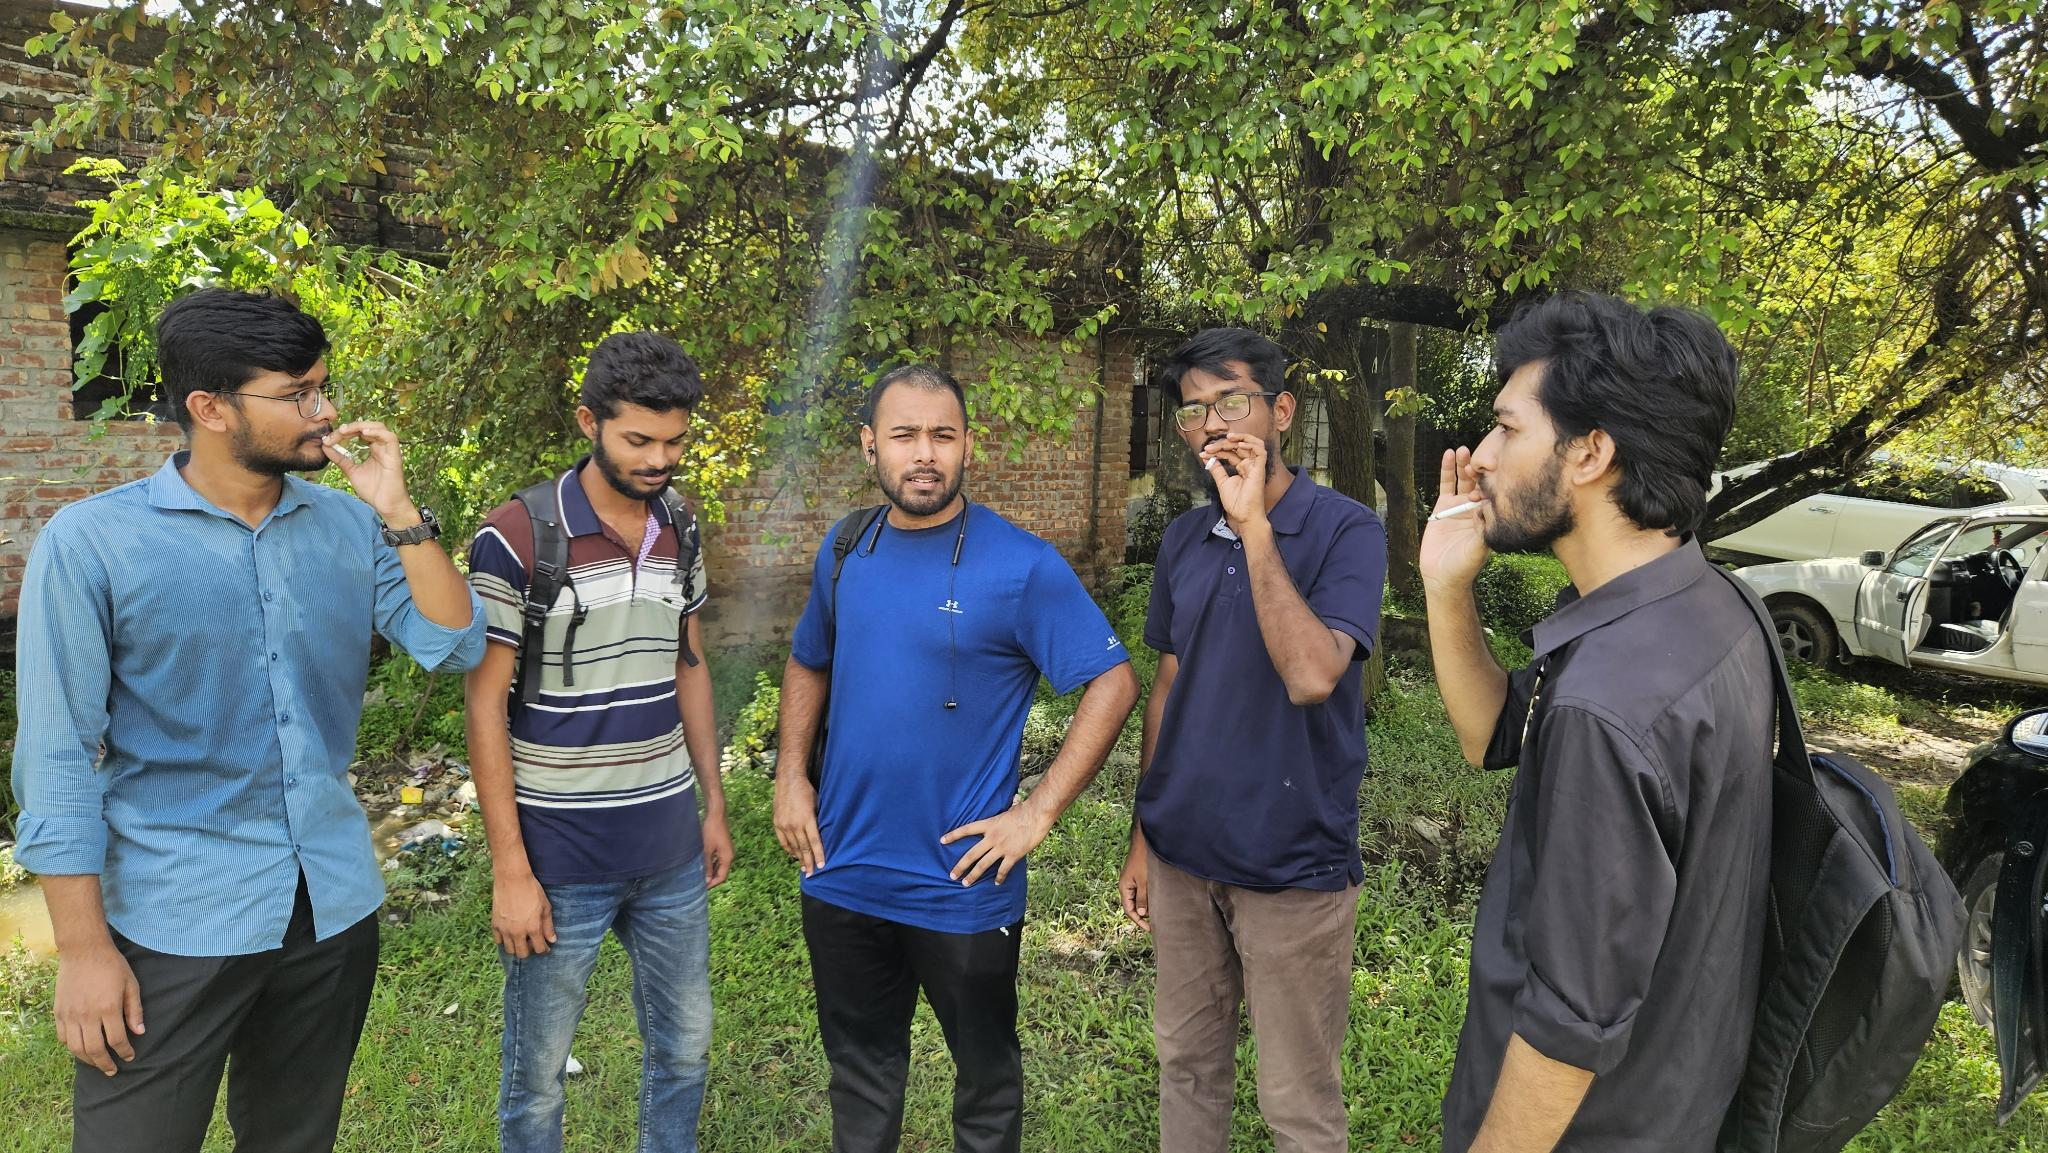cigarette: (1426, 496, 1485, 524), (331, 442, 353, 458), (1204, 454, 1218, 471)
nonSmoker: (775, 364, 1137, 1153), (467, 329, 733, 1153)
smoker: (1419, 297, 1966, 1153), (0, 287, 487, 1153), (1124, 328, 1387, 1153)
